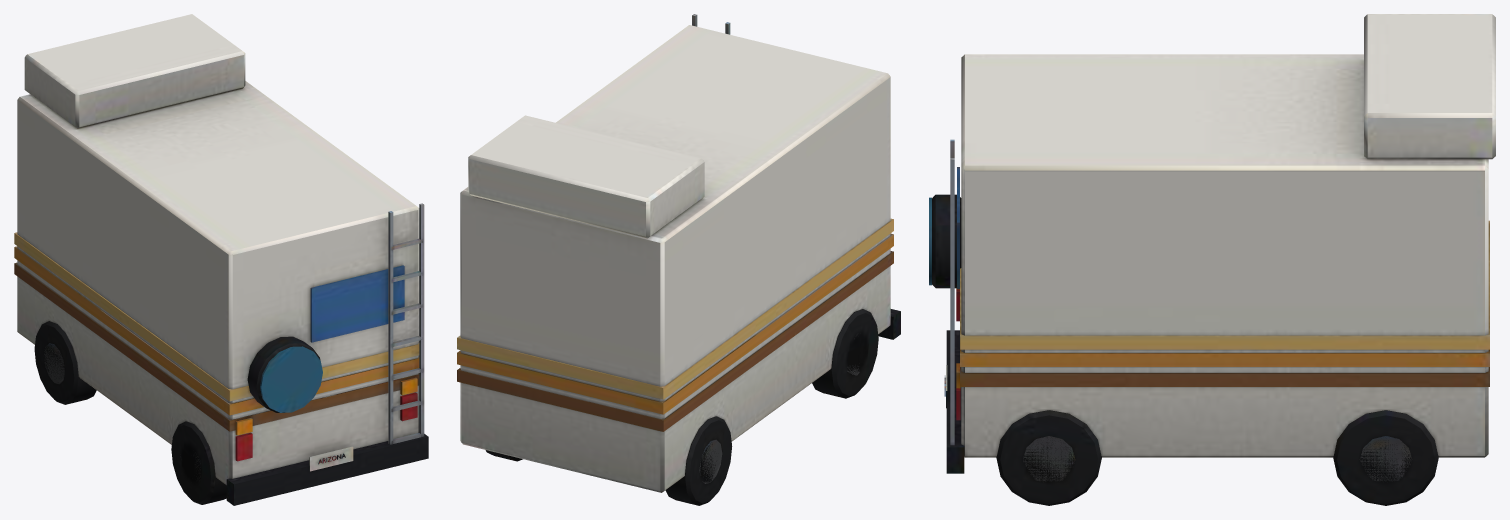
Rendered from autocaravana.glb.
3 views of the same model, side by side, from view 1: azimuth 30°, elevation 25°; view 2: azimuth 150°, elevation 25°; view 3: azimuth 270°, elevation 25° (orthographic). The views are drawn at different scales.
Parts seen in each view (by area): view 1: autocaravana; view 2: autocaravana; view 3: autocaravana.
Part boxes in pixels (x1,y1,x2,y2): autocaravana: (14, 14, 428, 505); autocaravana: (457, 14, 900, 505); autocaravana: (929, 14, 1495, 505).
Bounding box in the file's own units: 1.91 × 2.9 × 3.87.
1 material, 1 textured.
